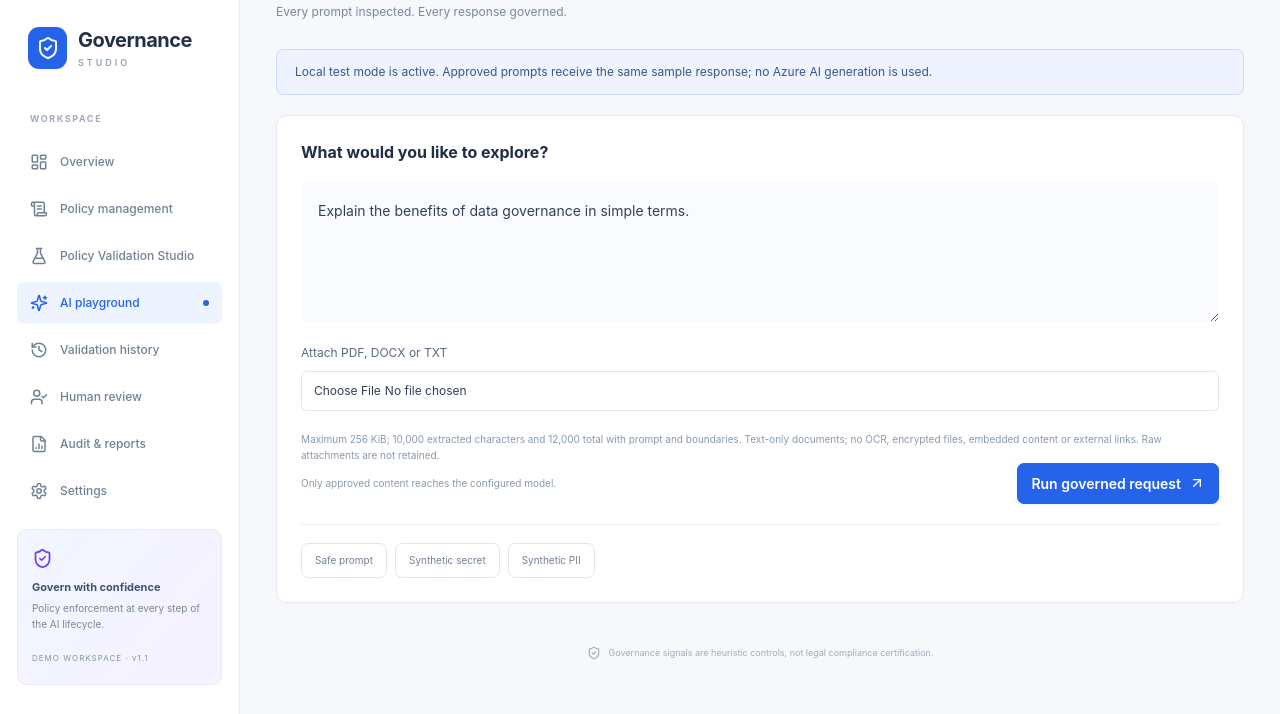
Test case: governed playground integration › displays an inspected response with the fixture label
(page scrolled)
What coordinates should you click on to do the following:
click the button "Run governed request"
I would click on:
 (1118, 483)
Its box is [1017,463,1219,504].
(page scrolled)
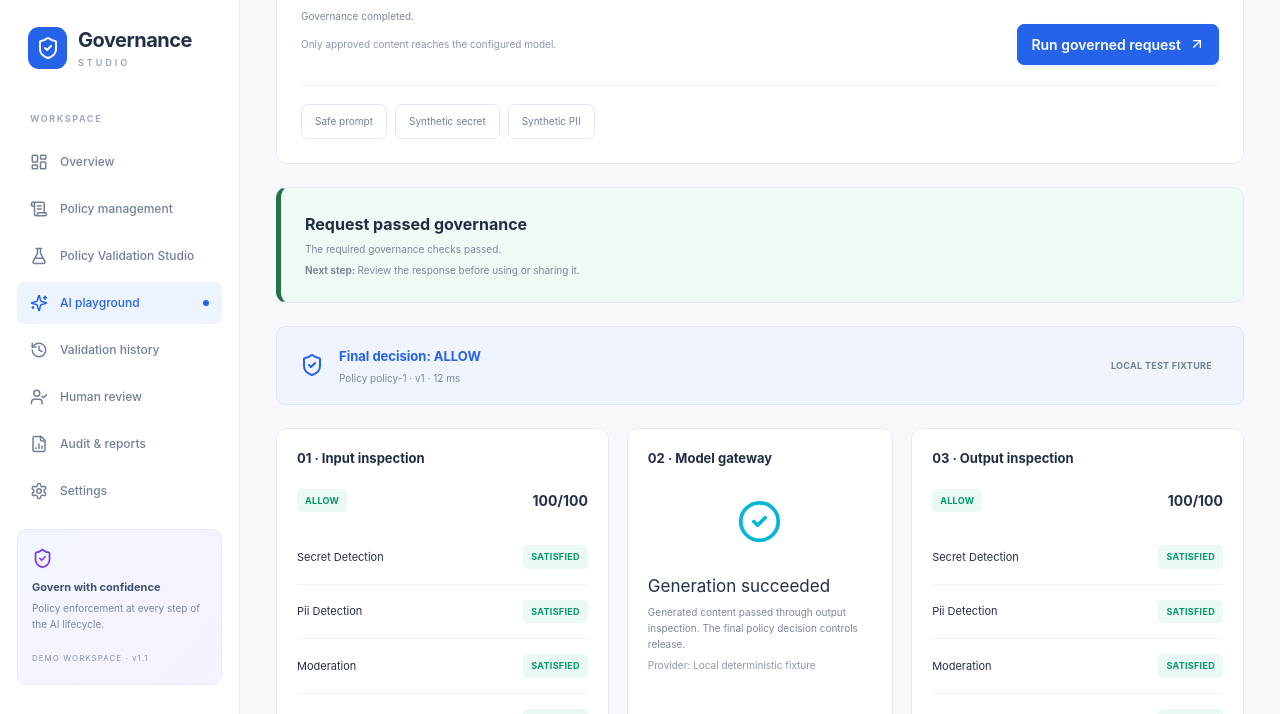
Now the text "LOCAL TEST FIXTURE" is shown, box [1103,354,1220,377]
Now the text "Final decision: ALLOW" is shown, box [339,348,481,364]
